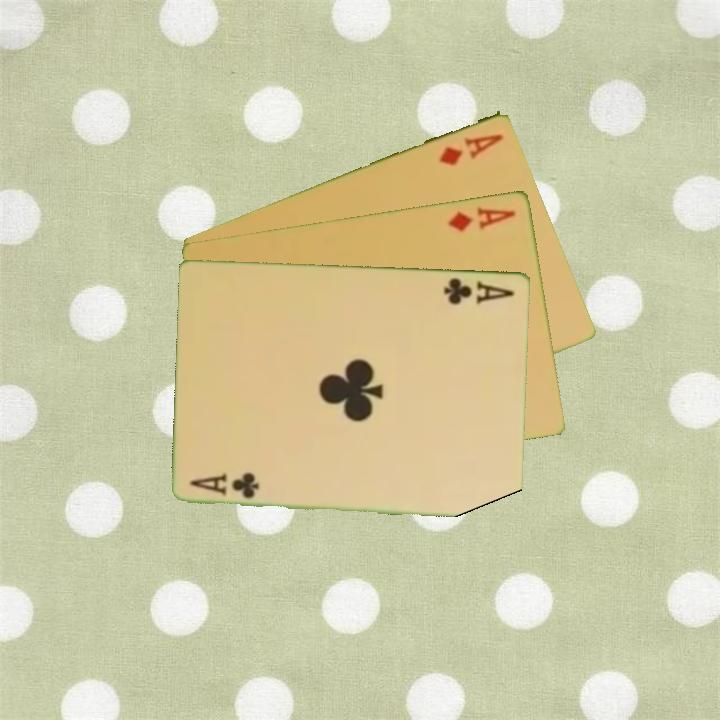Ac: (441, 273, 518, 307), (187, 469, 263, 501)
Ad: (436, 129, 507, 168), (445, 203, 519, 234)
